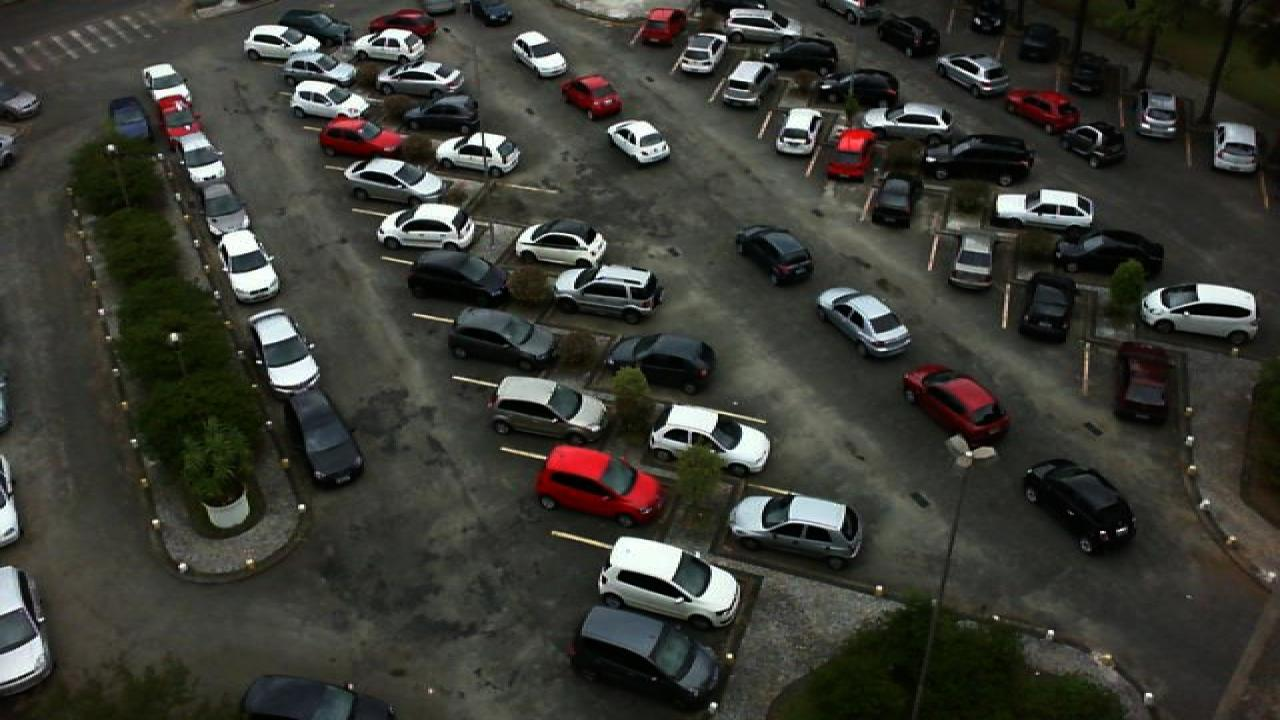Car: (566, 603, 722, 714), (596, 536, 744, 632), (532, 442, 664, 530), (1024, 456, 1138, 556), (728, 492, 866, 572), (642, 402, 774, 479), (902, 363, 1012, 449), (488, 374, 610, 450), (284, 384, 366, 489), (444, 305, 562, 376), (1138, 282, 1262, 346), (0, 565, 58, 696), (600, 331, 716, 396), (238, 673, 398, 720), (816, 285, 914, 359), (248, 307, 324, 396), (402, 248, 510, 310), (556, 263, 664, 324), (920, 134, 1038, 184), (1054, 230, 1168, 280), (374, 202, 478, 255), (514, 217, 610, 273), (216, 227, 284, 304), (1112, 340, 1172, 425), (344, 156, 444, 207), (736, 225, 814, 287), (432, 129, 524, 180), (1018, 272, 1080, 344), (992, 188, 1096, 228), (314, 117, 406, 159), (860, 101, 952, 141), (286, 80, 368, 124), (946, 228, 1002, 292), (1004, 88, 1080, 134), (932, 54, 1010, 98), (1058, 120, 1126, 170), (604, 118, 674, 166), (240, 22, 322, 62), (824, 125, 880, 183), (376, 60, 464, 96), (170, 133, 228, 187), (560, 72, 626, 119), (348, 28, 430, 65), (198, 180, 252, 236), (1210, 121, 1264, 176), (280, 51, 358, 89), (514, 29, 572, 80), (878, 14, 942, 60), (764, 36, 840, 74), (402, 93, 480, 130), (278, 9, 352, 46), (674, 30, 732, 77), (720, 60, 774, 110), (722, 5, 804, 37), (866, 176, 914, 229), (152, 94, 206, 140), (1132, 90, 1180, 141), (772, 106, 820, 155), (140, 62, 194, 105), (634, 7, 688, 48), (810, 64, 858, 108), (1066, 53, 1112, 97), (366, 9, 438, 37), (1016, 21, 1064, 63), (108, 96, 150, 142)
